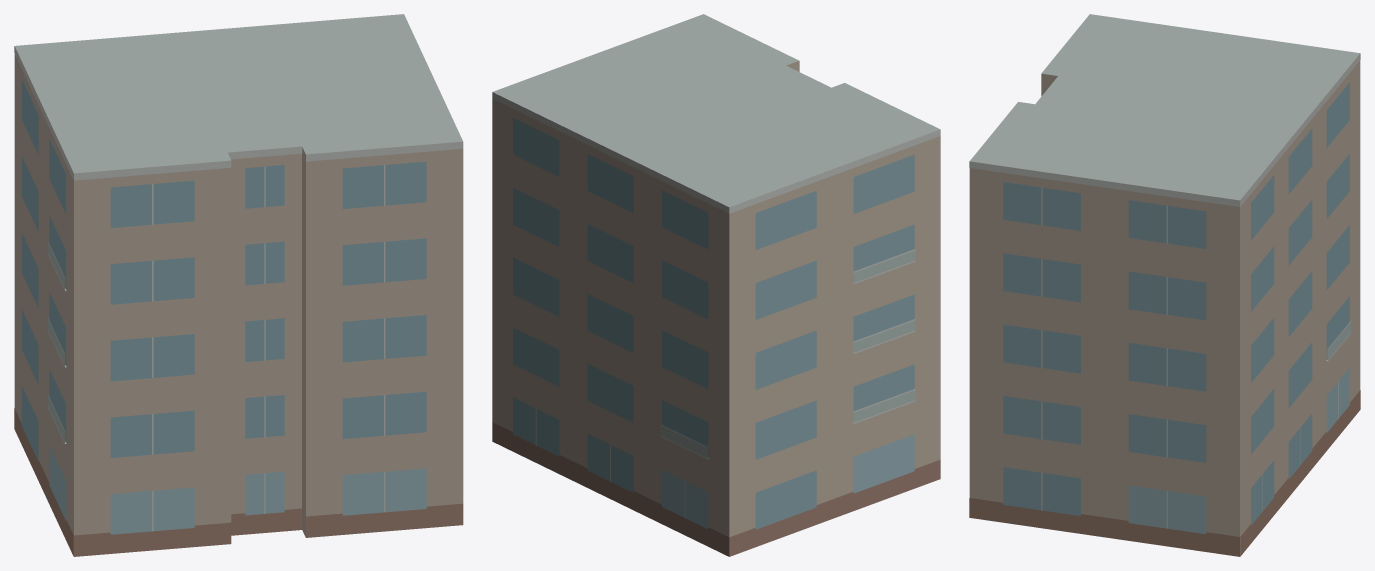
The model's file is survey-upis-32999850.glb.
The picture shows the model from 3 angles, left to right: view 1: azimuth 30°, elevation 25°; view 2: azimuth 150°, elevation 25°; view 3: azimuth 270°, elevation 25°; orthographic projection. The views are drawn at different scales.
Visible parts, largest first — view 1: survey-upis-32999850.tmp; view 2: survey-upis-32999850.tmp; view 3: survey-upis-32999850.tmp.
Part boxes in pixels (<box>): survey-upis-32999850.tmp: <box>14,14,463,556</box>; survey-upis-32999850.tmp: <box>492,14,940,556</box>; survey-upis-32999850.tmp: <box>969,14,1360,556</box>.
Bounding box in the file's own units: 14.76 × 13.15 × 13.08.
